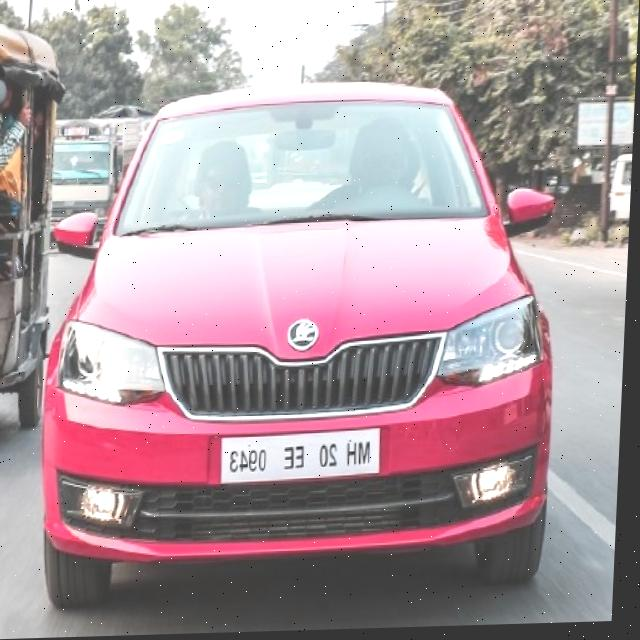plate: (223, 427, 389, 486)
